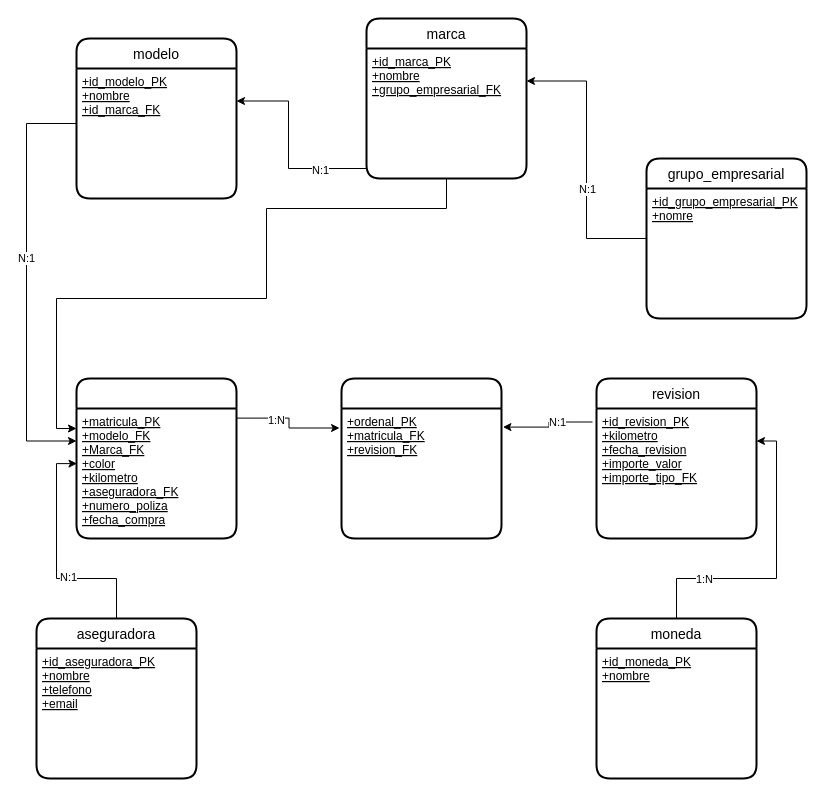
This 824x796 diagram has some shape labels left out. Here are the shapes that lost their labels. From the top down, the box of each, then its label:
(75, 377, 237, 539): coche
(340, 377, 502, 539): hist_coche_revision
